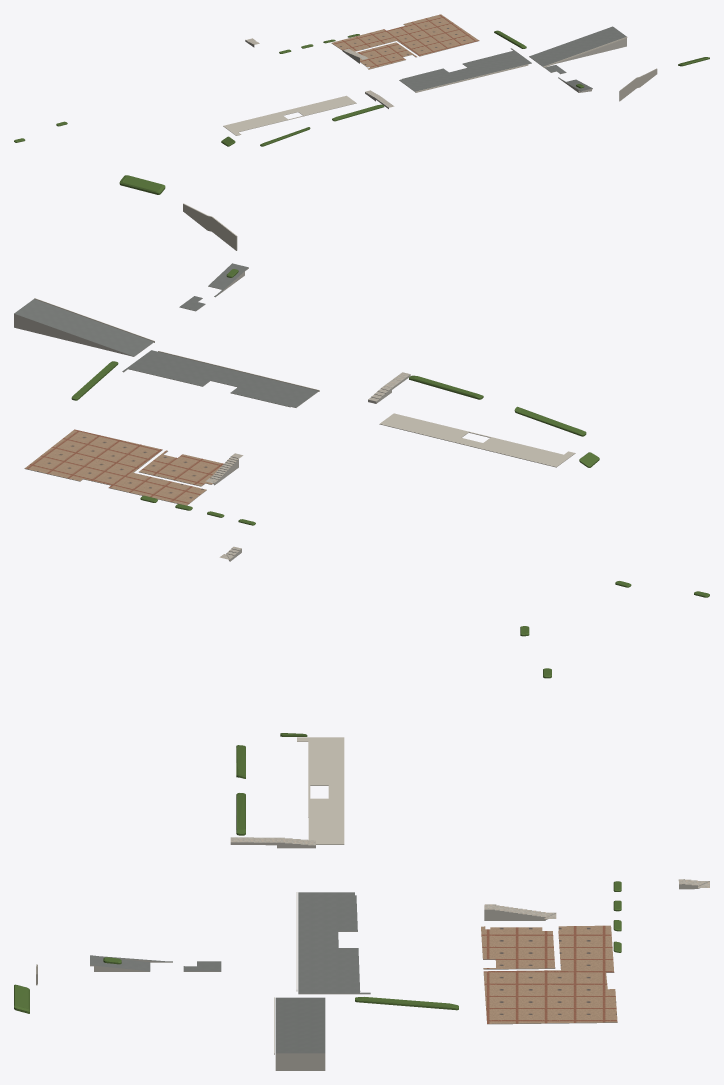
3 renders of one model, top to bottom at view 1: azimuth 30°, elevation 25°; view 2: azimuth 150°, elevation 25°; view 3: azimuth 270°, elevation 25°, orthographic. The views are drawn at different scales.
Visible parts, largest first — view 1: hansung-hansungCourt, hansung-asphalt, entry-curb__graniteWarm, uchon-planter__hedge, osm-steps-472037622-2__graniteRiser, naksan-photo-retaining__graniteWall, hansung-graniteLight; view 2: hansung-hansungCourt, hansung-asphalt, entry-curb__graniteWarm, uchon-planter__hedge, osm-steps-472037622-2__graniteRiser, naksan-photo-retaining__graniteWall, hansung-graniteLight; view 3: hansung-hansungCourt, hansung-asphalt, entry-curb__graniteWarm, osm-steps-472037622-2__graniteRiser, uchon-planter__hedge, hansung-graniteLight.
Boxes of the visible parts, x1,y1,x2,y2 form: hansung-hansungCourt: (331, 14, 479, 69); hansung-asphalt: (399, 26, 626, 91); entry-curb__graniteWarm: (223, 37, 627, 135); uchon-planter__hedge: (14, 30, 709, 146); osm-steps-472037622-2__graniteRiser: (223, 24, 626, 135); naksan-photo-retaining__graniteWall: (619, 68, 657, 101); hansung-graniteLight: (245, 38, 394, 107); hansung-hansungCourt: (24, 429, 223, 505); hansung-asphalt: (14, 263, 318, 407); entry-curb__graniteWarm: (34, 298, 575, 466); uchon-planter__hedge: (71, 175, 709, 597); osm-steps-472037622-2__graniteRiser: (14, 267, 575, 561); naksan-photo-retaining__graniteWall: (183, 203, 237, 250); hansung-graniteLight: (205, 372, 410, 559); hansung-hansungCourt: (481, 925, 617, 1023); hansung-asphalt: (90, 892, 370, 1053); entry-curb__graniteWarm: (274, 737, 344, 1054); osm-steps-472037622-2__graniteRiser: (90, 741, 709, 1070); uchon-planter__hedge: (14, 626, 621, 1013); hansung-graniteLight: (230, 837, 709, 918).
Size of the model in its own units: 250 by 26.77 by 154.
7 materials, 3 textured.
